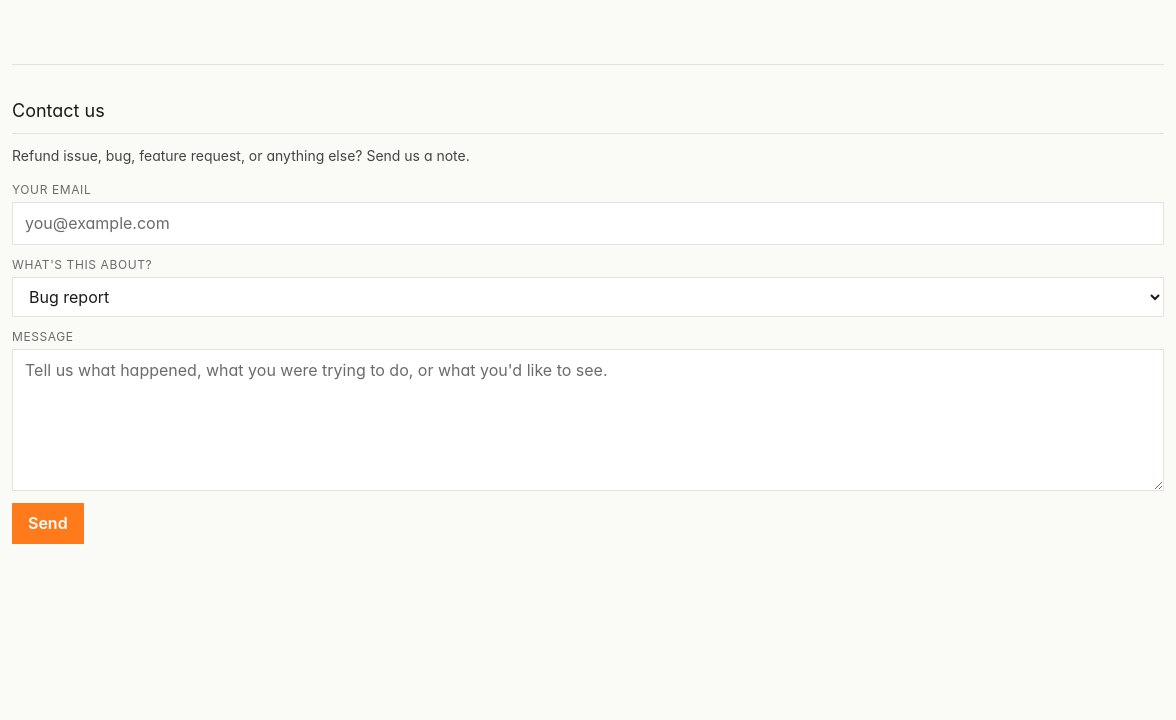
Test: ContactForm › blocks submit with too-short body
Type "me@example.com" into the field labelled "Your email".
click(588, 223); type("me@example.com")  # box left=12, top=202, right=1164, bottom=245
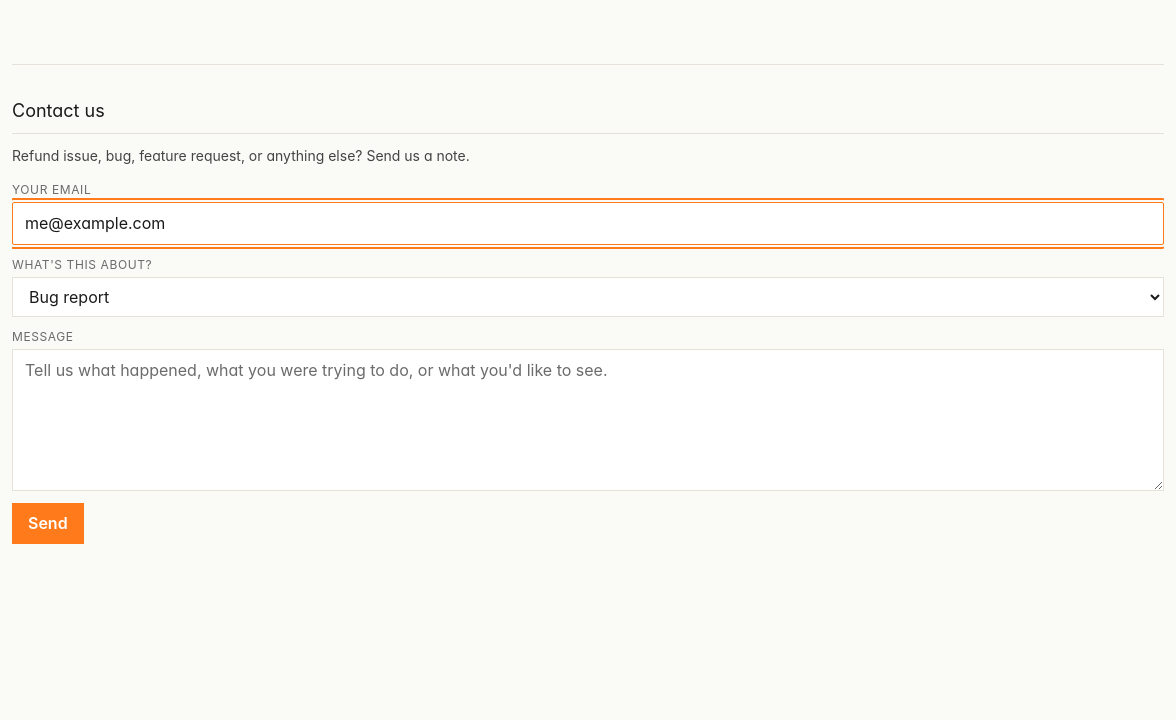
Type "short" into the text box labelled "Message".
click(588, 420); type("short")  # box left=12, top=349, right=1164, bottom=491
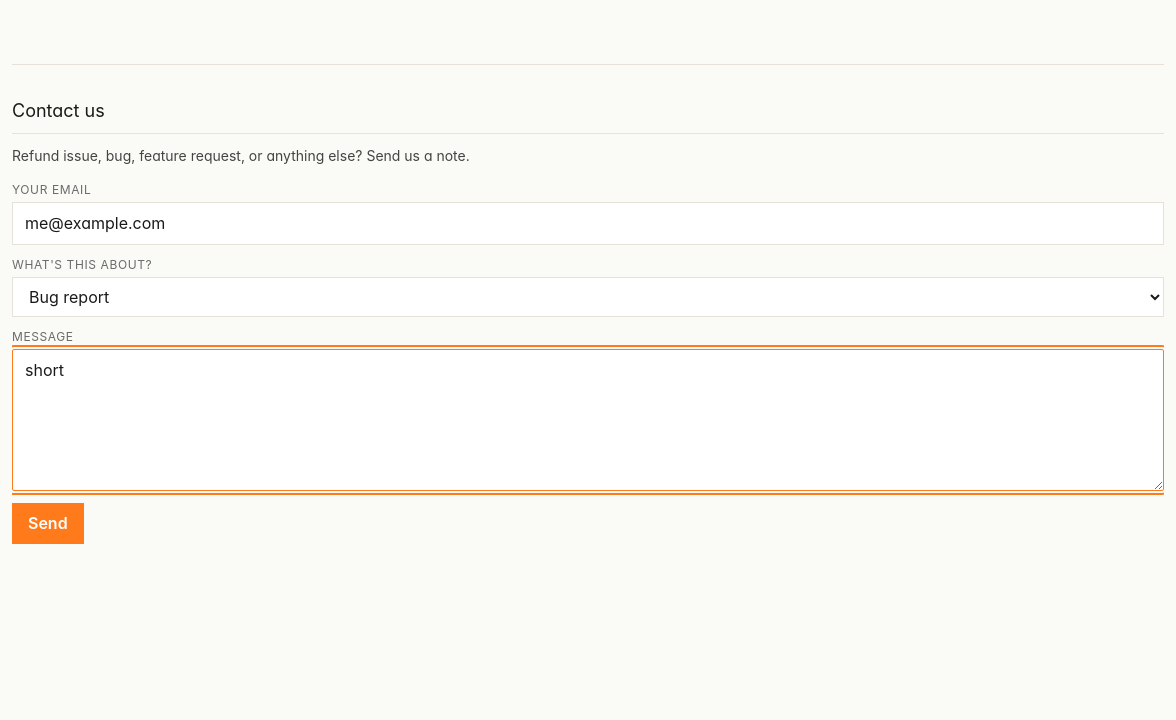
Click the button "Send".
click(48, 523)  # box left=12, top=503, right=84, bottom=544
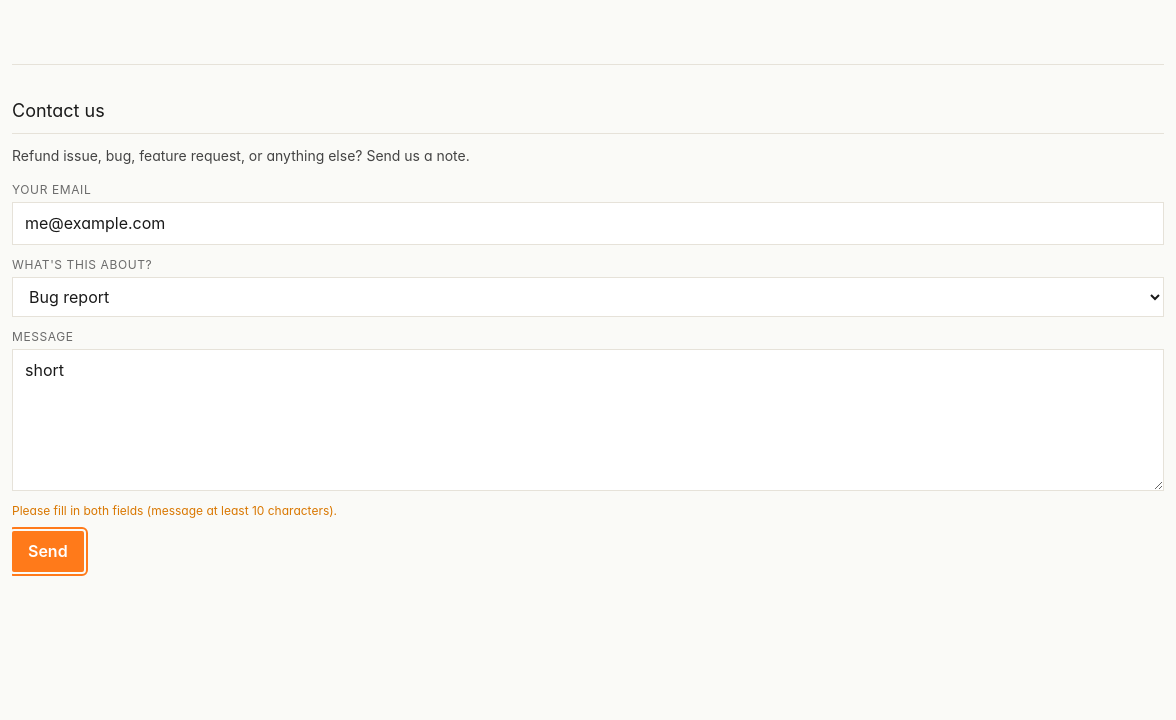
Result: the text "Please fill in both fields (message at least 10 characters)." is shown at left=12, top=503, right=337, bottom=518
